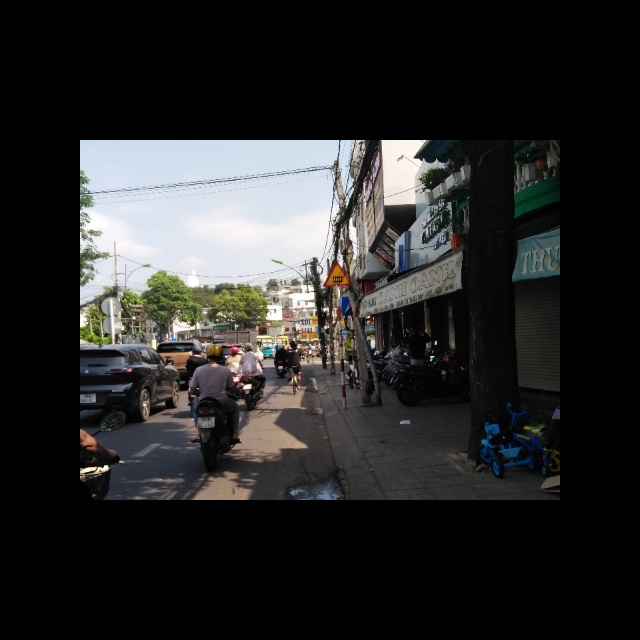Giao nhau với đường sắt có rào chắn: (323, 261, 352, 287)
